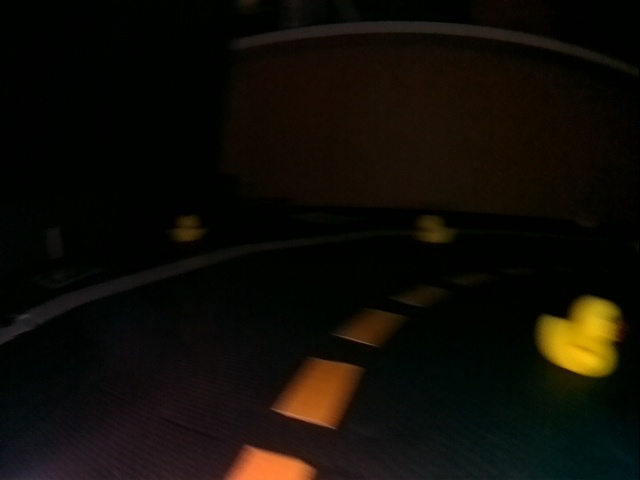Duckie: (536, 294, 625, 378), (416, 214, 455, 244), (173, 214, 205, 242)
